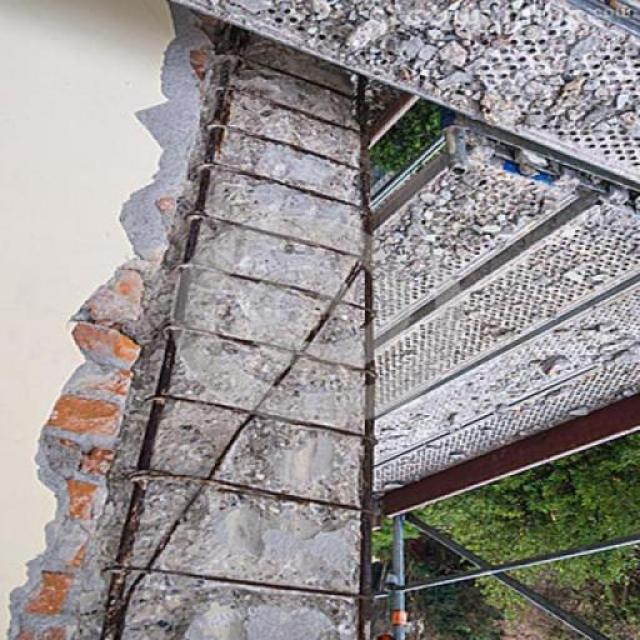D0w0: (1, 4, 381, 638)
